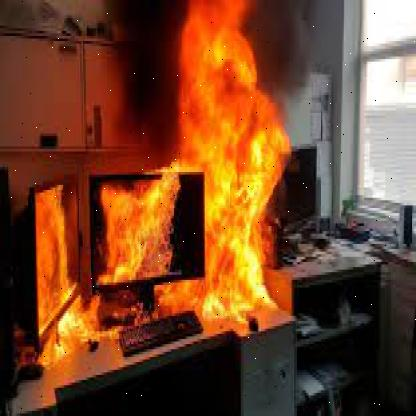fire: (33, 3, 294, 355)
smoke: (96, 14, 183, 155), (251, 3, 326, 106)
